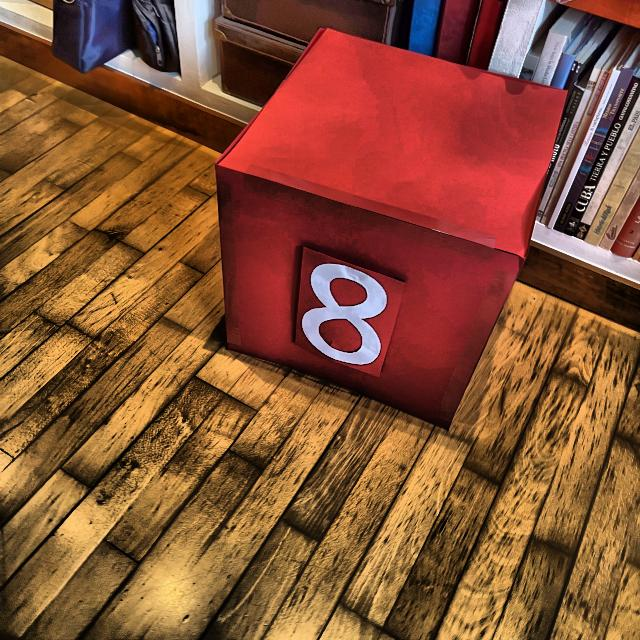eight: (304, 262, 385, 365)
red box: (225, 19, 565, 428)
